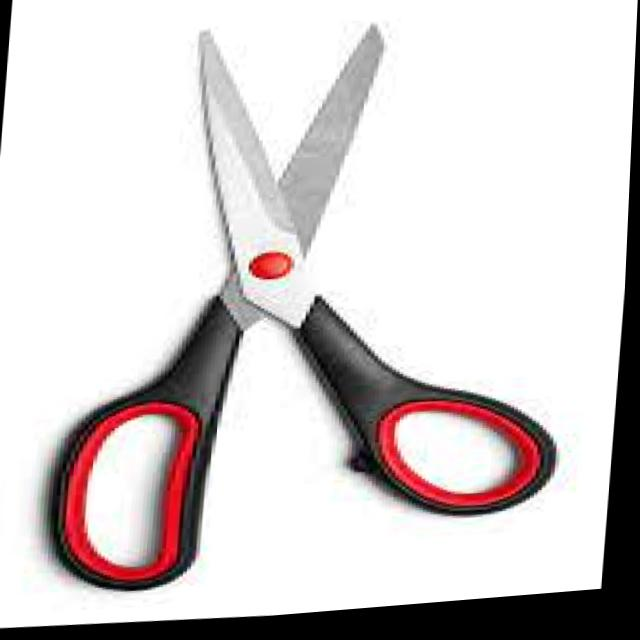scissor: (45, 7, 590, 614)
